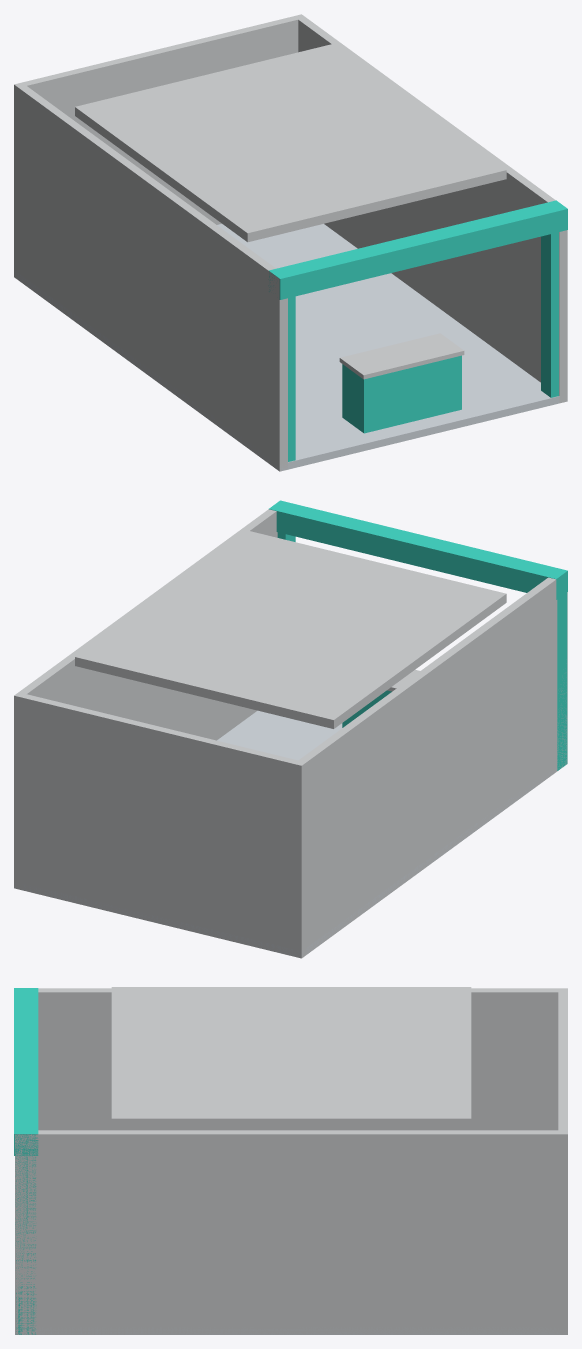
The picture shows the model from 3 angles, top to bottom: view 1: azimuth 30°, elevation 25°; view 2: azimuth 150°, elevation 25°; view 3: azimuth 270°, elevation 25°; orthographic projection. The views are drawn at different scales.
Parts seen in each view (by area): view 1: Exhibition Booth Concept; view 2: Exhibition Booth Concept; view 3: Exhibition Booth Concept.
Boxes of the visible parts, x1,y1,x2,y2 form: Exhibition Booth Concept: [14, 14, 567, 471]; Exhibition Booth Concept: [14, 500, 567, 958]; Exhibition Booth Concept: [14, 987, 567, 1334].
Size of the model in its own units: 5 by 3.34 by 8.01.
